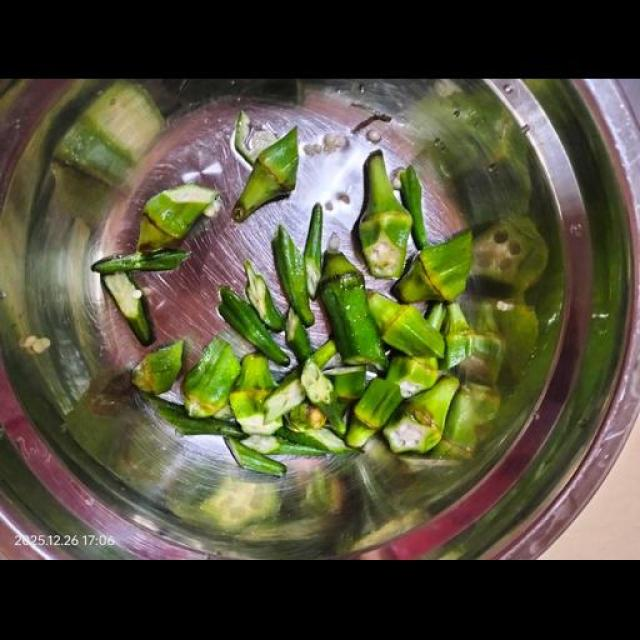organic: (132, 152, 547, 476), (132, 152, 546, 476), (145, 377, 499, 476), (408, 82, 532, 223), (55, 80, 164, 184), (145, 395, 327, 456), (319, 235, 387, 369), (359, 152, 412, 278), (84, 80, 163, 163), (65, 373, 142, 458), (233, 128, 298, 222), (383, 377, 458, 453), (473, 217, 547, 294), (219, 287, 289, 366), (394, 232, 472, 302), (138, 184, 218, 249), (55, 118, 132, 184), (432, 383, 499, 458), (443, 303, 504, 384), (368, 293, 444, 357), (479, 300, 538, 379), (199, 477, 281, 532), (183, 339, 239, 417), (145, 395, 244, 438), (229, 354, 282, 434), (273, 225, 314, 326), (144, 184, 217, 238), (52, 163, 111, 229), (347, 378, 402, 448), (102, 273, 154, 346), (263, 372, 326, 429), (302, 359, 346, 436), (382, 305, 443, 356), (244, 260, 284, 332), (357, 438, 403, 498), (132, 340, 183, 394), (450, 332, 503, 383), (354, 378, 402, 431), (399, 165, 428, 249), (92, 249, 189, 274), (383, 413, 441, 453), (459, 333, 504, 384), (234, 112, 276, 166), (225, 439, 286, 476), (387, 355, 439, 398), (232, 390, 281, 434), (265, 370, 306, 421), (265, 372, 306, 421), (300, 470, 343, 514), (444, 303, 472, 368), (304, 204, 323, 298), (242, 435, 327, 456), (278, 429, 351, 453), (368, 292, 408, 333), (325, 367, 366, 402), (285, 308, 312, 361), (302, 360, 334, 404), (237, 353, 276, 389), (138, 215, 176, 251), (287, 400, 326, 432), (234, 110, 256, 164), (318, 398, 347, 437), (347, 418, 377, 448), (473, 304, 498, 333), (312, 340, 337, 368), (242, 435, 278, 454), (447, 303, 469, 333), (425, 303, 446, 331), (337, 397, 353, 421), (214, 403, 233, 419)
